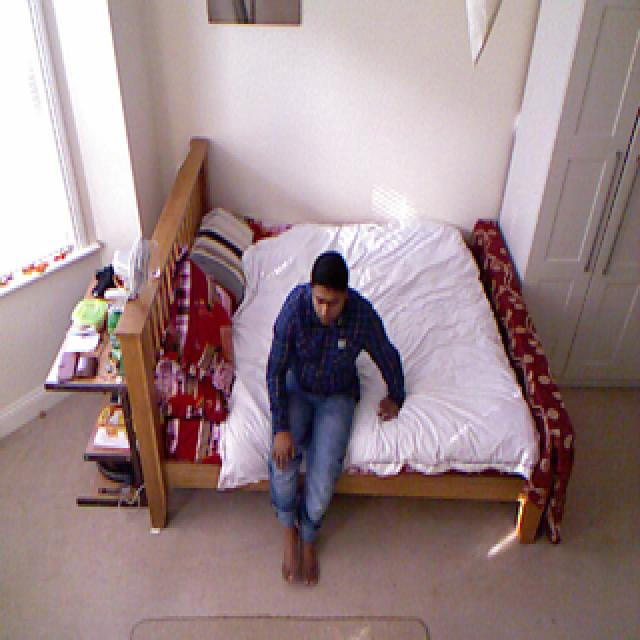sitting: (265, 245, 405, 591)
